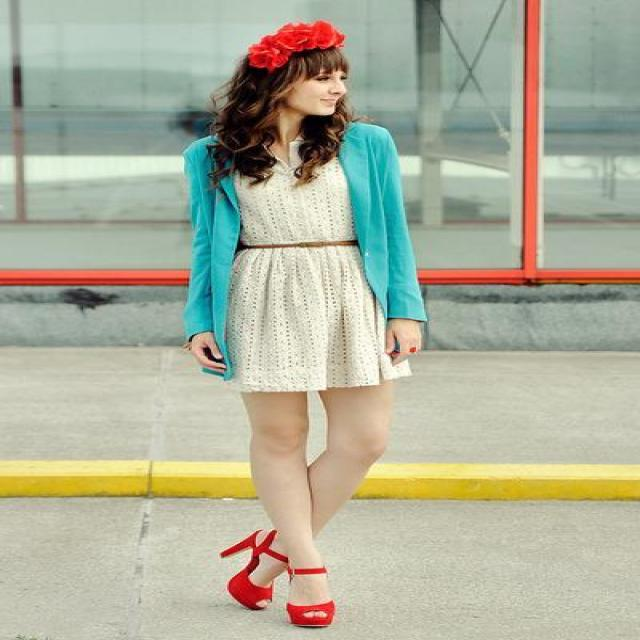dress: (227, 141, 411, 396)
jacket: (184, 123, 419, 344)
shoe: (221, 530, 325, 627)
